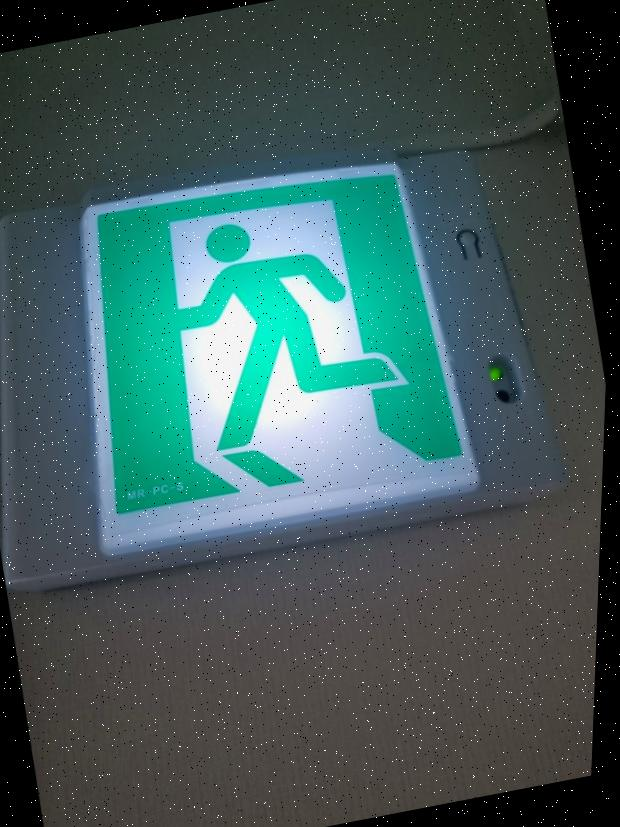emergency_exit: (80, 160, 482, 560)
